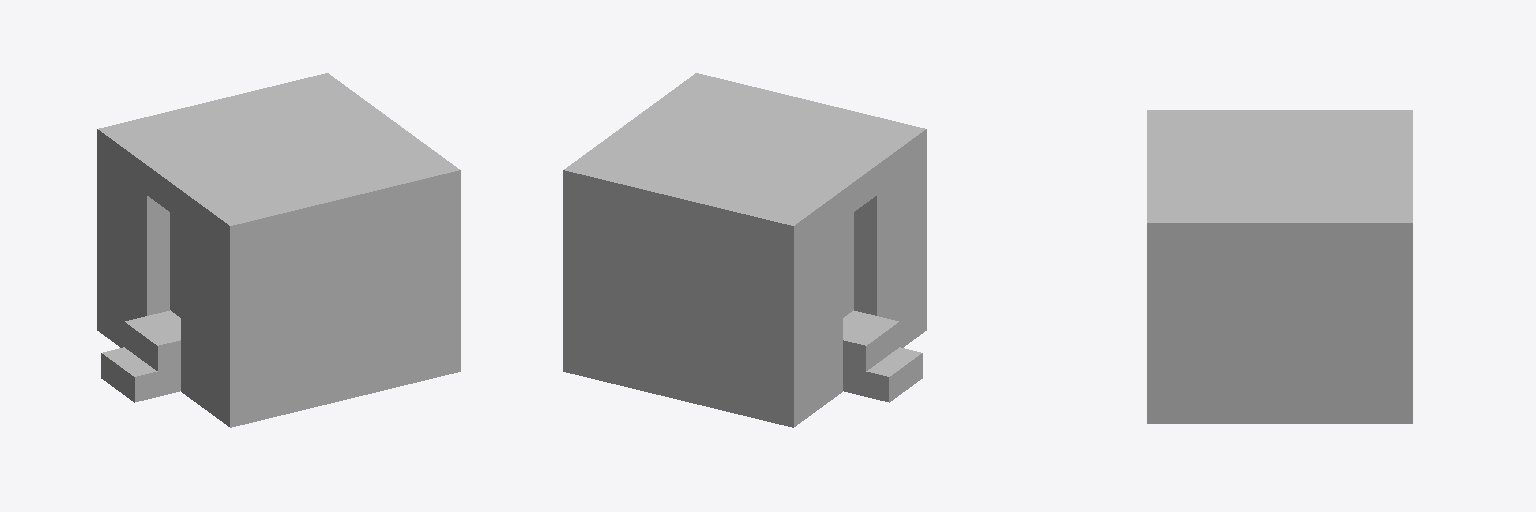
3 renders of one model, left to right at view 1: azimuth 30°, elevation 25°; view 2: azimuth 150°, elevation 25°; view 3: azimuth 270°, elevation 25°, orthographic.
Parts seen in each view (by area): view 1: G-__555798_G-__555798_Brick, G-__555798_G-__555798_Dark_brick, G-__555798_G-__555798_Glass; view 2: G-__555798_G-__555798_Brick, G-__555798_G-__555798_Dark_brick, G-__555798_G-__555798_Glass; view 3: G-__555798_G-__555798_Brick, G-__555798_G-__555798_Dark_brick.
Part boxes in pixels (left/top/right/bottom): G-__555798_G-__555798_Brick: left=97, top=73, right=460, bottom=376; G-__555798_G-__555798_Dark_brick: left=97, top=280, right=460, bottom=427; G-__555798_G-__555798_Glass: left=170, top=213, right=180, bottom=317; G-__555798_G-__555798_Brick: left=563, top=73, right=926, bottom=376; G-__555798_G-__555798_Dark_brick: left=563, top=280, right=926, bottom=427; G-__555798_G-__555798_Glass: left=843, top=213, right=853, bottom=317; G-__555798_G-__555798_Brick: left=1147, top=110, right=1412, bottom=372; G-__555798_G-__555798_Dark_brick: left=1147, top=373, right=1412, bottom=423.
Bounding box in the file's own units: 1.2 × 0.8375 × 1.